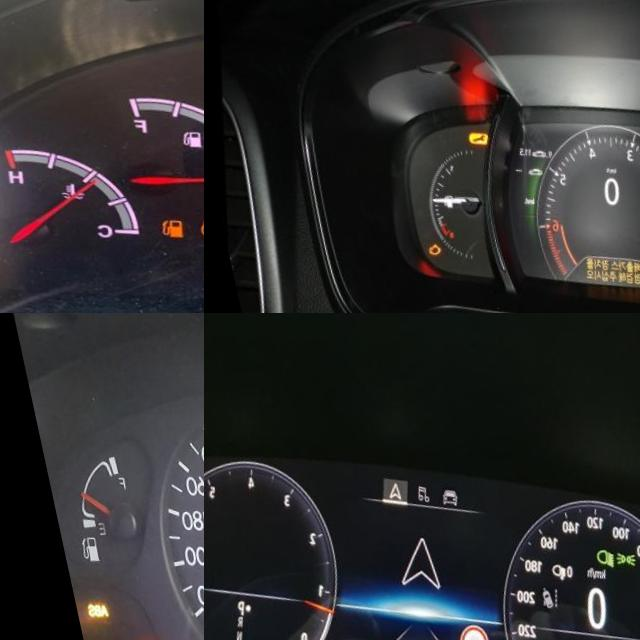Low beam: (580, 554, 605, 579)
Low fuel level: (145, 223, 172, 246)
SideLamp: (600, 558, 625, 579)
